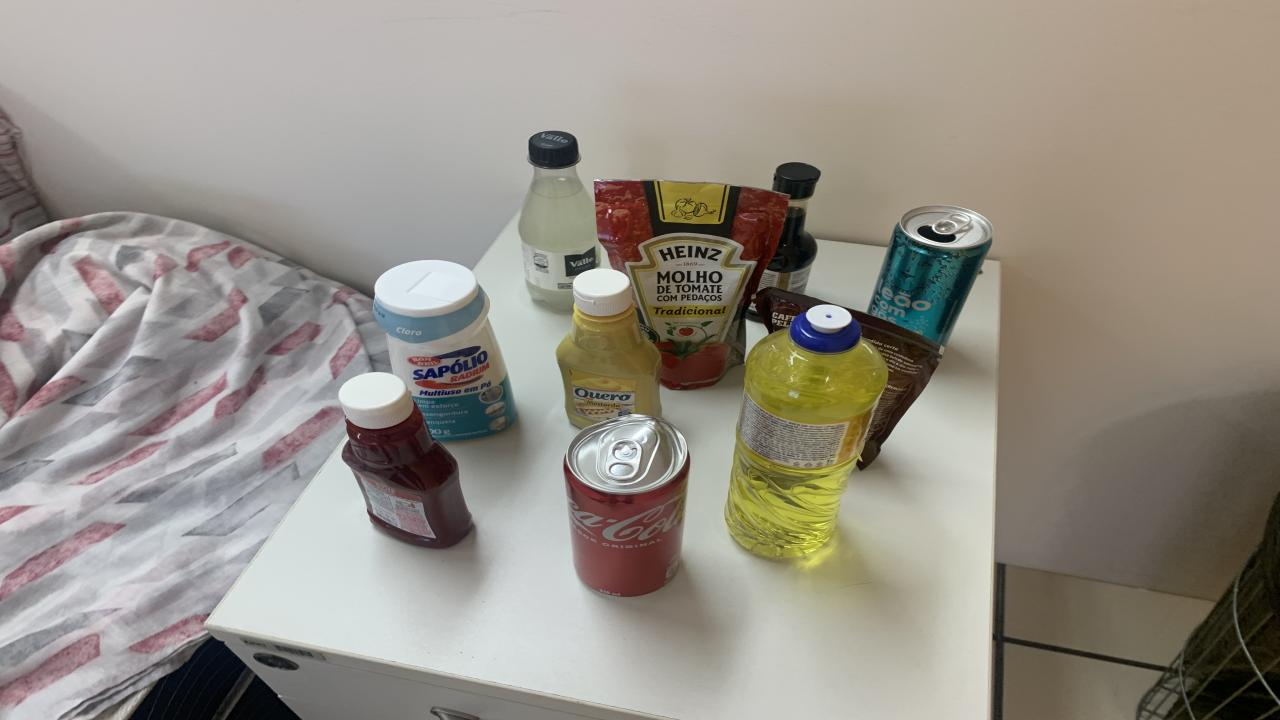Cleaner-Cleanup_Items: (372, 261, 518, 441)
Coffee-Pantry_Items: (848, 309, 942, 469), (755, 287, 825, 332)
Coke-Drinks: (565, 414, 690, 596)
Detergent-Cleanup_Items: (725, 304, 888, 557)
English_Sauce-Pantry_Items: (760, 161, 820, 292)
Ketchup-Pantry_Items: (340, 371, 472, 548)
Mustard-Pantry_Items: (555, 268, 662, 428)
Soda-Drinks: (518, 131, 600, 311)
Tea-Drinks: (868, 206, 992, 345)
Tomato_Sauce-Pantry_Items: (595, 180, 790, 390)
